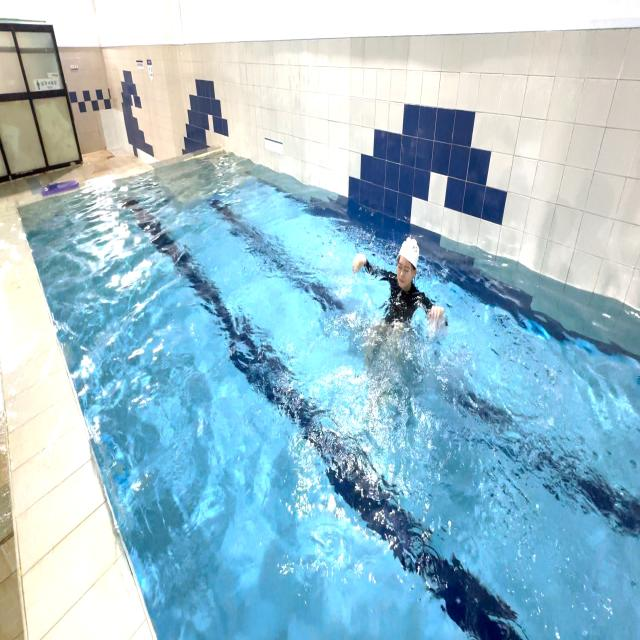Drowning: (350, 234, 447, 374)
